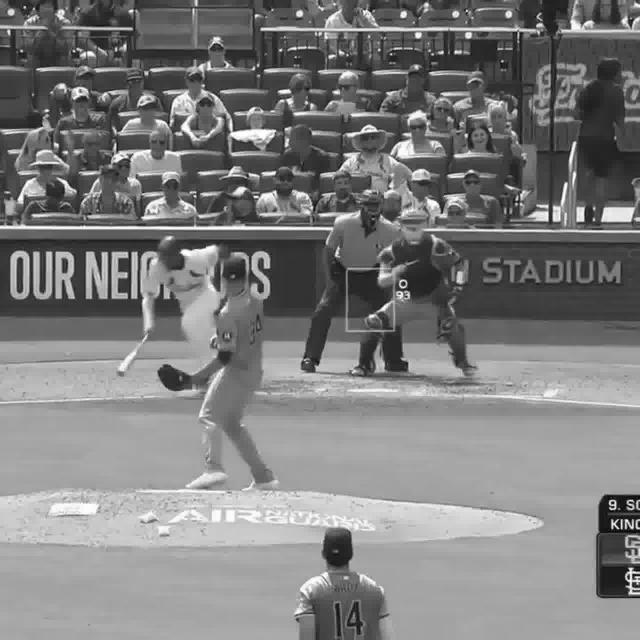base: (344, 386, 398, 395)
baseball_glove: (161, 364, 196, 390), (432, 316, 458, 342)
bat: (116, 328, 152, 379)
shoe: (186, 468, 232, 488), (248, 478, 278, 492), (459, 366, 478, 386), (352, 362, 374, 374), (300, 361, 315, 373)
